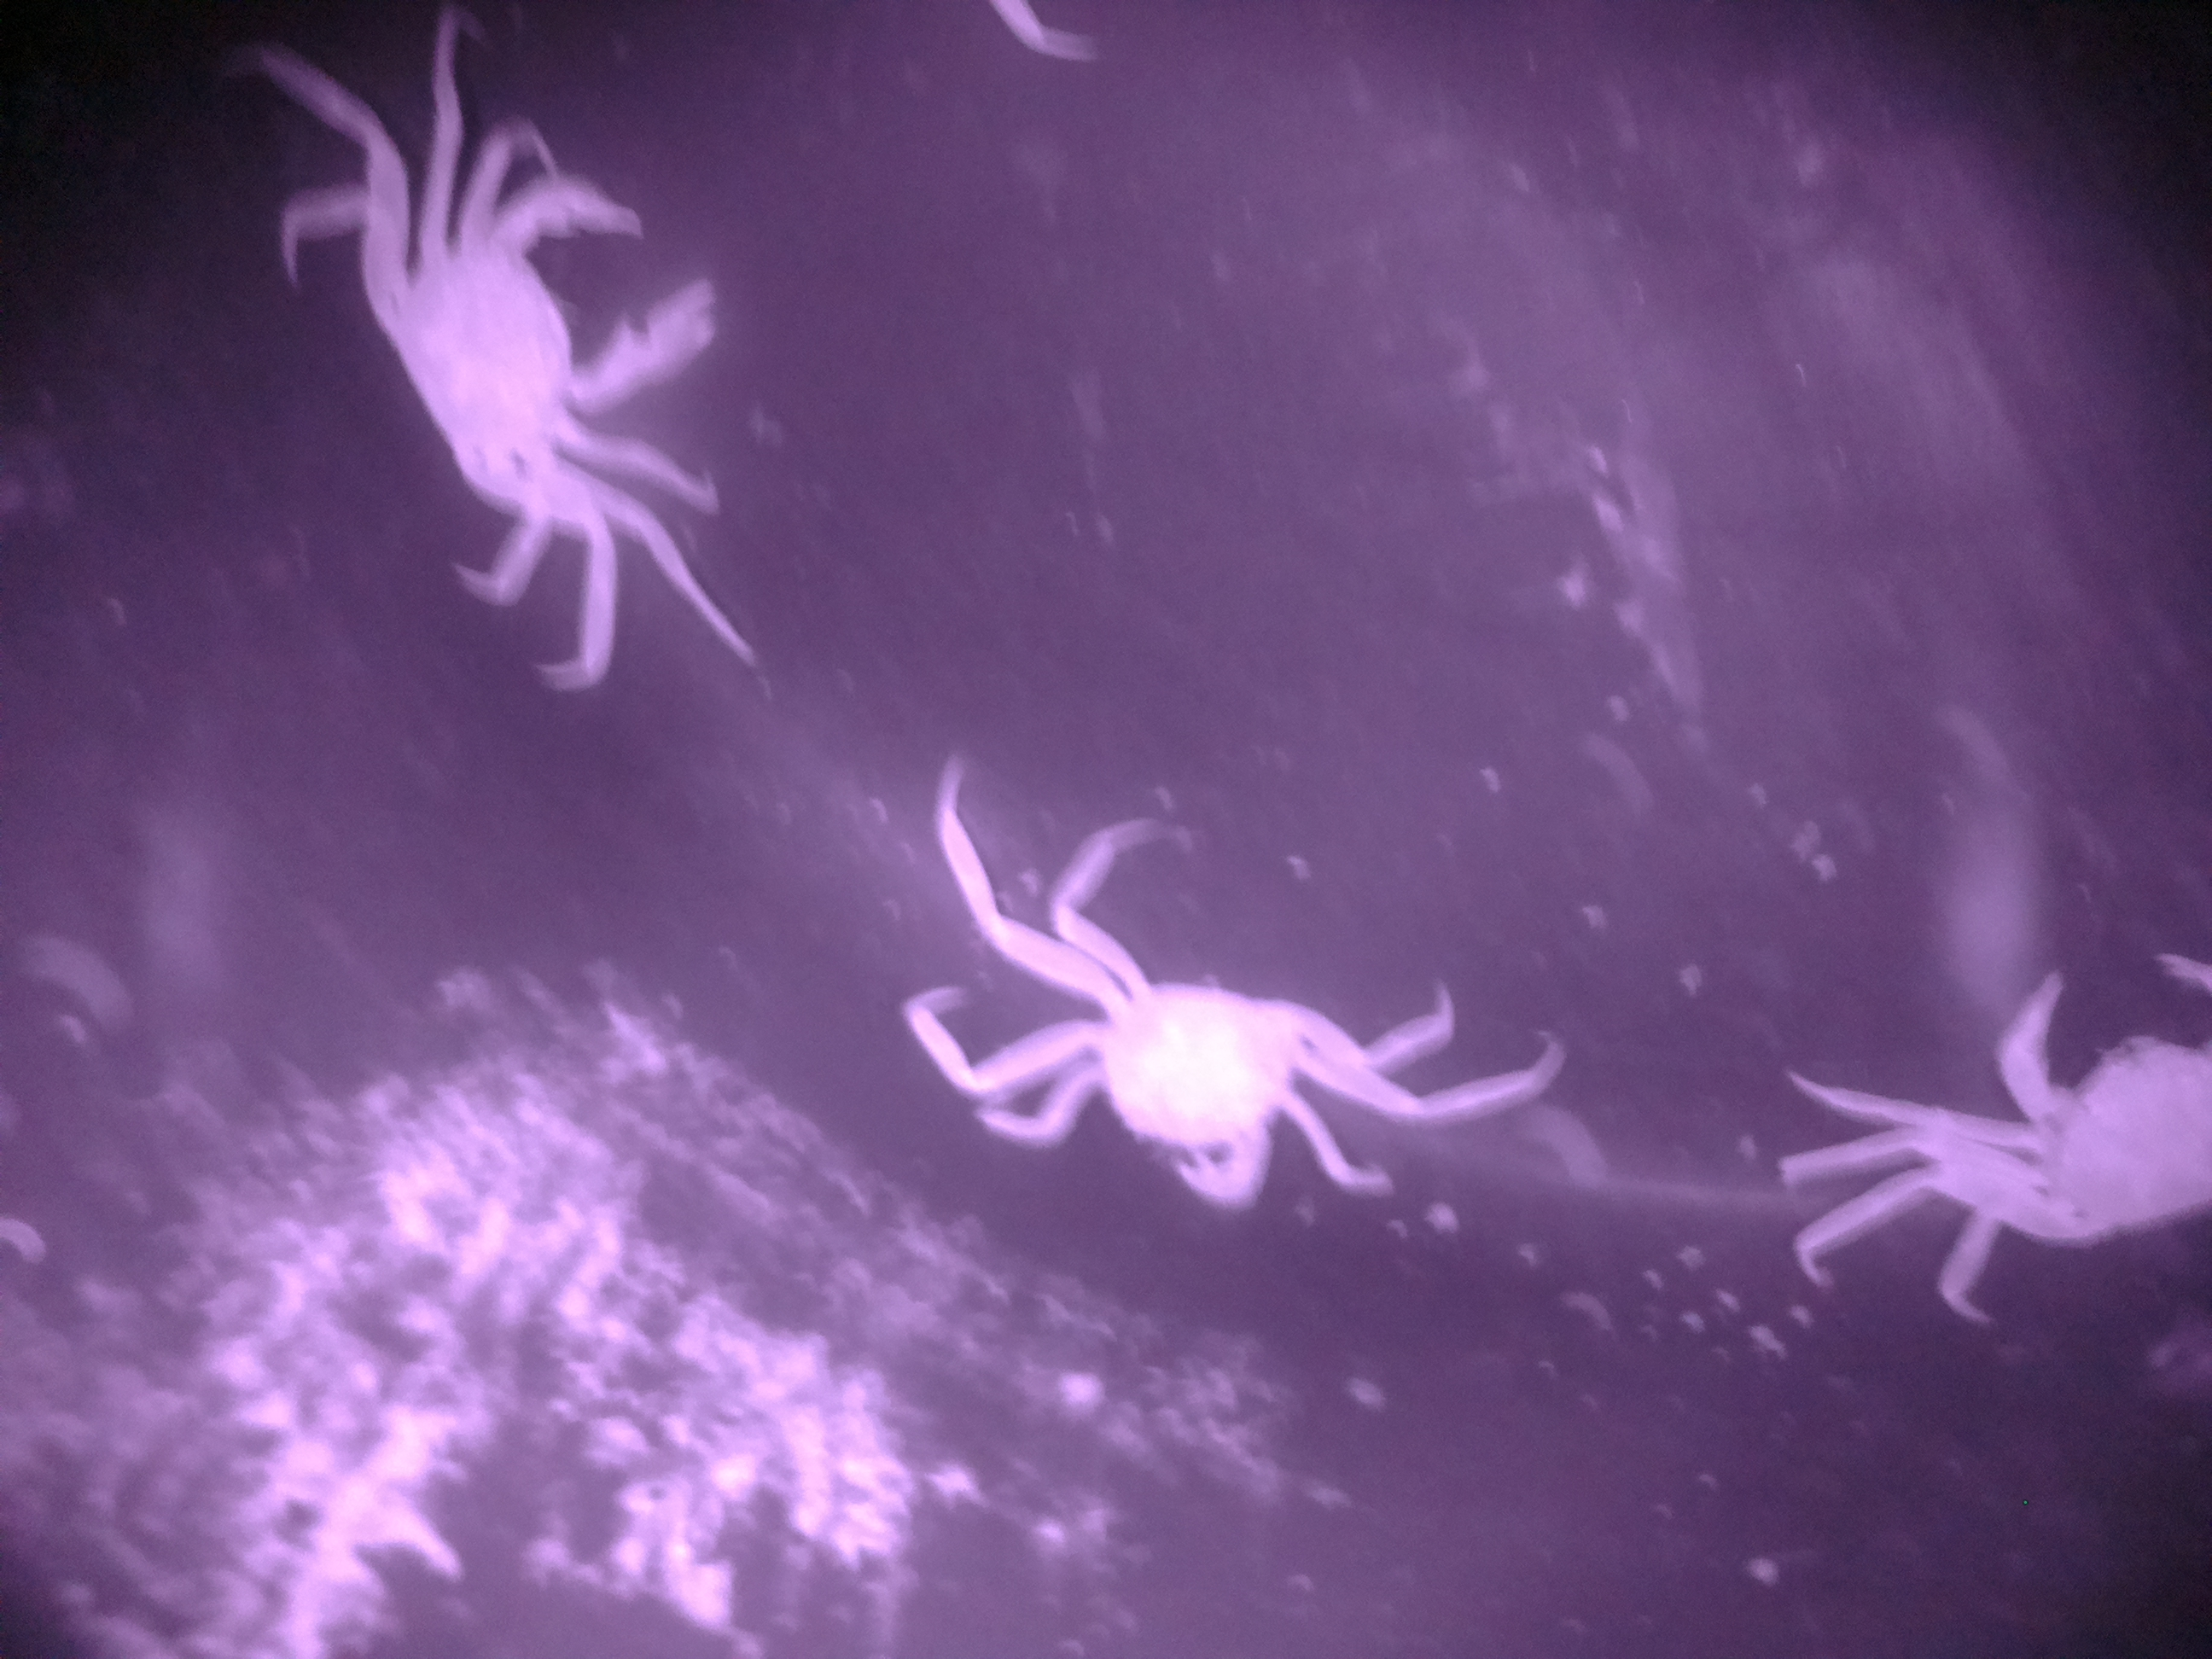Crab: (273, 134, 777, 549), (972, 807, 1379, 1251)
